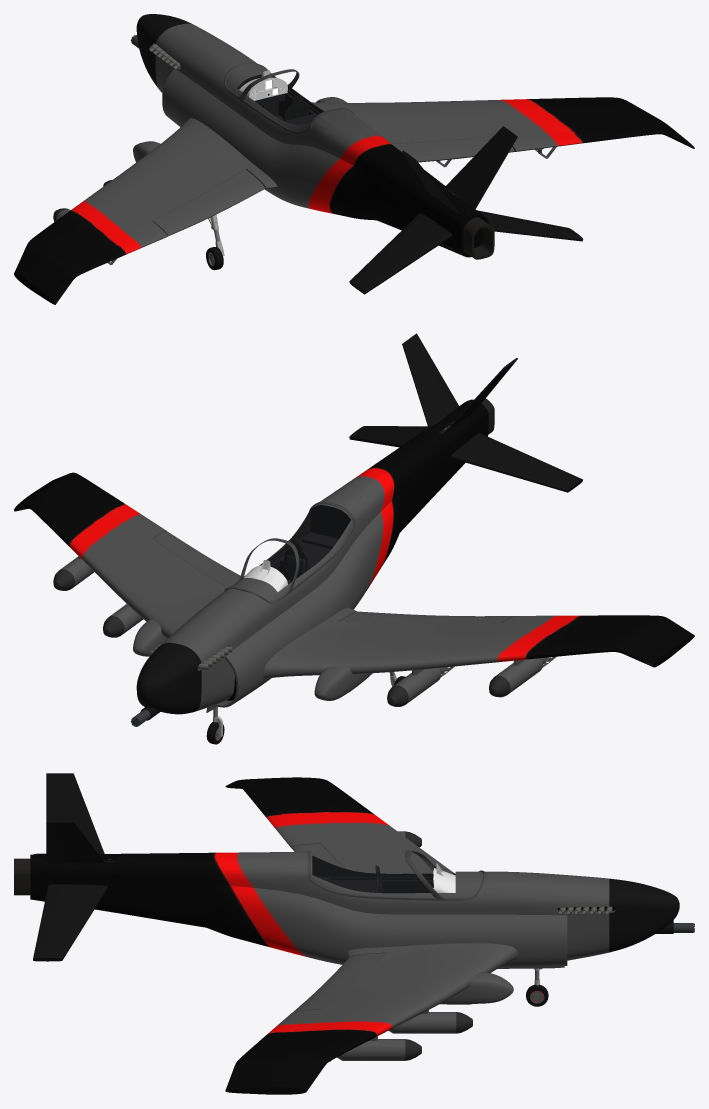
3 renders of one model, top to bottom at view 1: azimuth 30°, elevation 25°; view 2: azimuth 150°, elevation 25°; view 3: azimuth 270°, elevation 25°, orthographic. The views are drawn at different scales.
Parts seen in each view (by area): view 1: Object_11, Object_4, Object_13, Object_26; view 2: Object_11, Object_4, Object_13; view 3: Object_4, Object_11, Object_13.
Boxes of the visible parts, left/top/right/bottom form: Object_11: left=14, top=97, right=694, bottom=304; Object_4: left=152, top=23, right=488, bottom=257; Object_13: left=53, top=14, right=583, bottom=294; Object_26: left=239, top=71, right=287, bottom=100; Object_11: left=14, top=472, right=694, bottom=700; Object_4: left=160, top=399, right=488, bottom=711; Object_13: left=53, top=333, right=582, bottom=744; Object_4: left=30, top=851, right=616, bottom=968; Object_11: left=225, top=777, right=517, bottom=1094; Object_13: left=14, top=773, right=694, bottom=1061.
Bounding box in the file's own units: 1130 × 362 × 1068.
11 materials, 7 textured.
